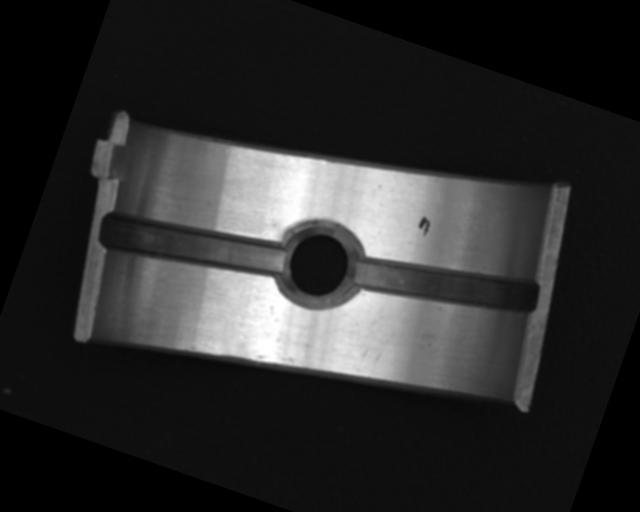blot: (415, 214, 433, 238)
gap: (94, 185, 294, 307), (349, 226, 541, 347)
hole: (272, 216, 370, 317)
